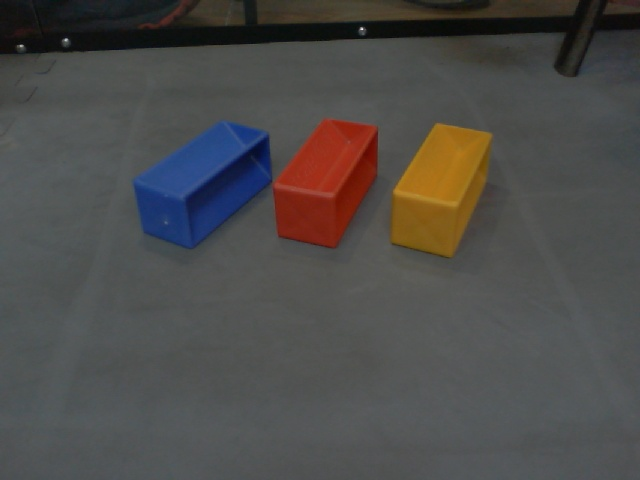BlueSample: (131, 120, 270, 249)
RedSample: (270, 117, 379, 250)
YellowSample: (391, 122, 497, 262)
